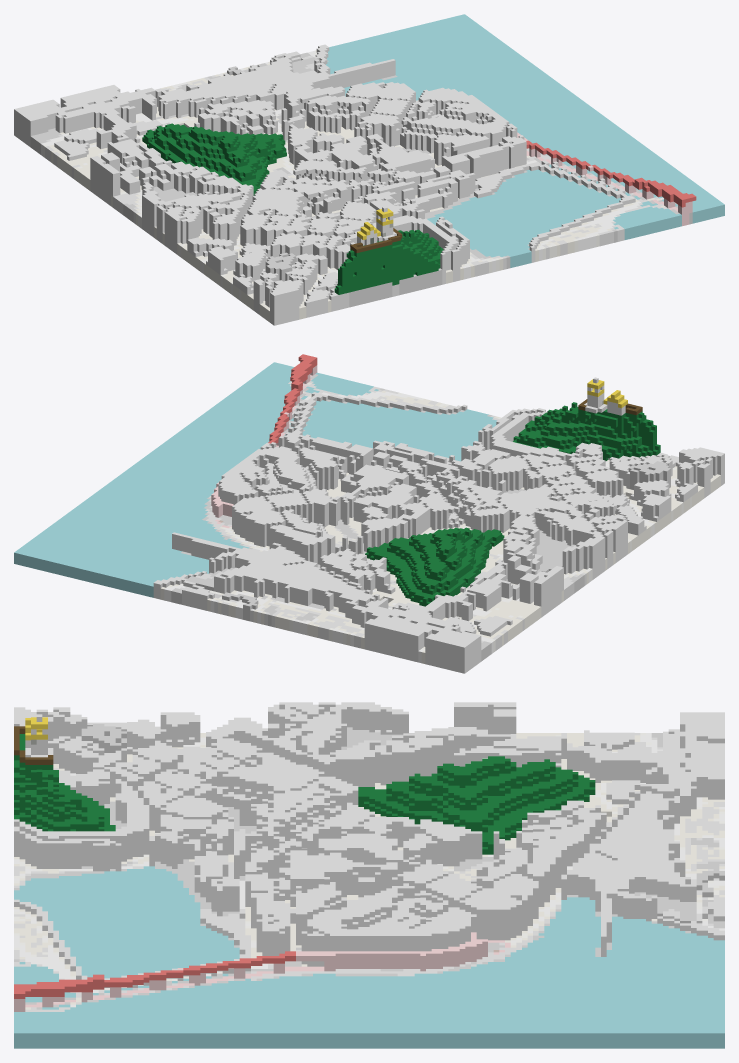
File: 200607 macau ver2-2.obj
3 renders of one model, top to bottom at view 1: azimuth 30°, elevation 25°; view 2: azimuth 150°, elevation 25°; view 3: azimuth 270°, elevation 25°, orthographic. The views are drawn at different scales.
Size of the model in its own units: 12.6 by 2.2 by 12.6.
Materials: 1 (1 with a texture image).
